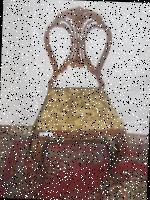Silla: (31, 6, 132, 183)
